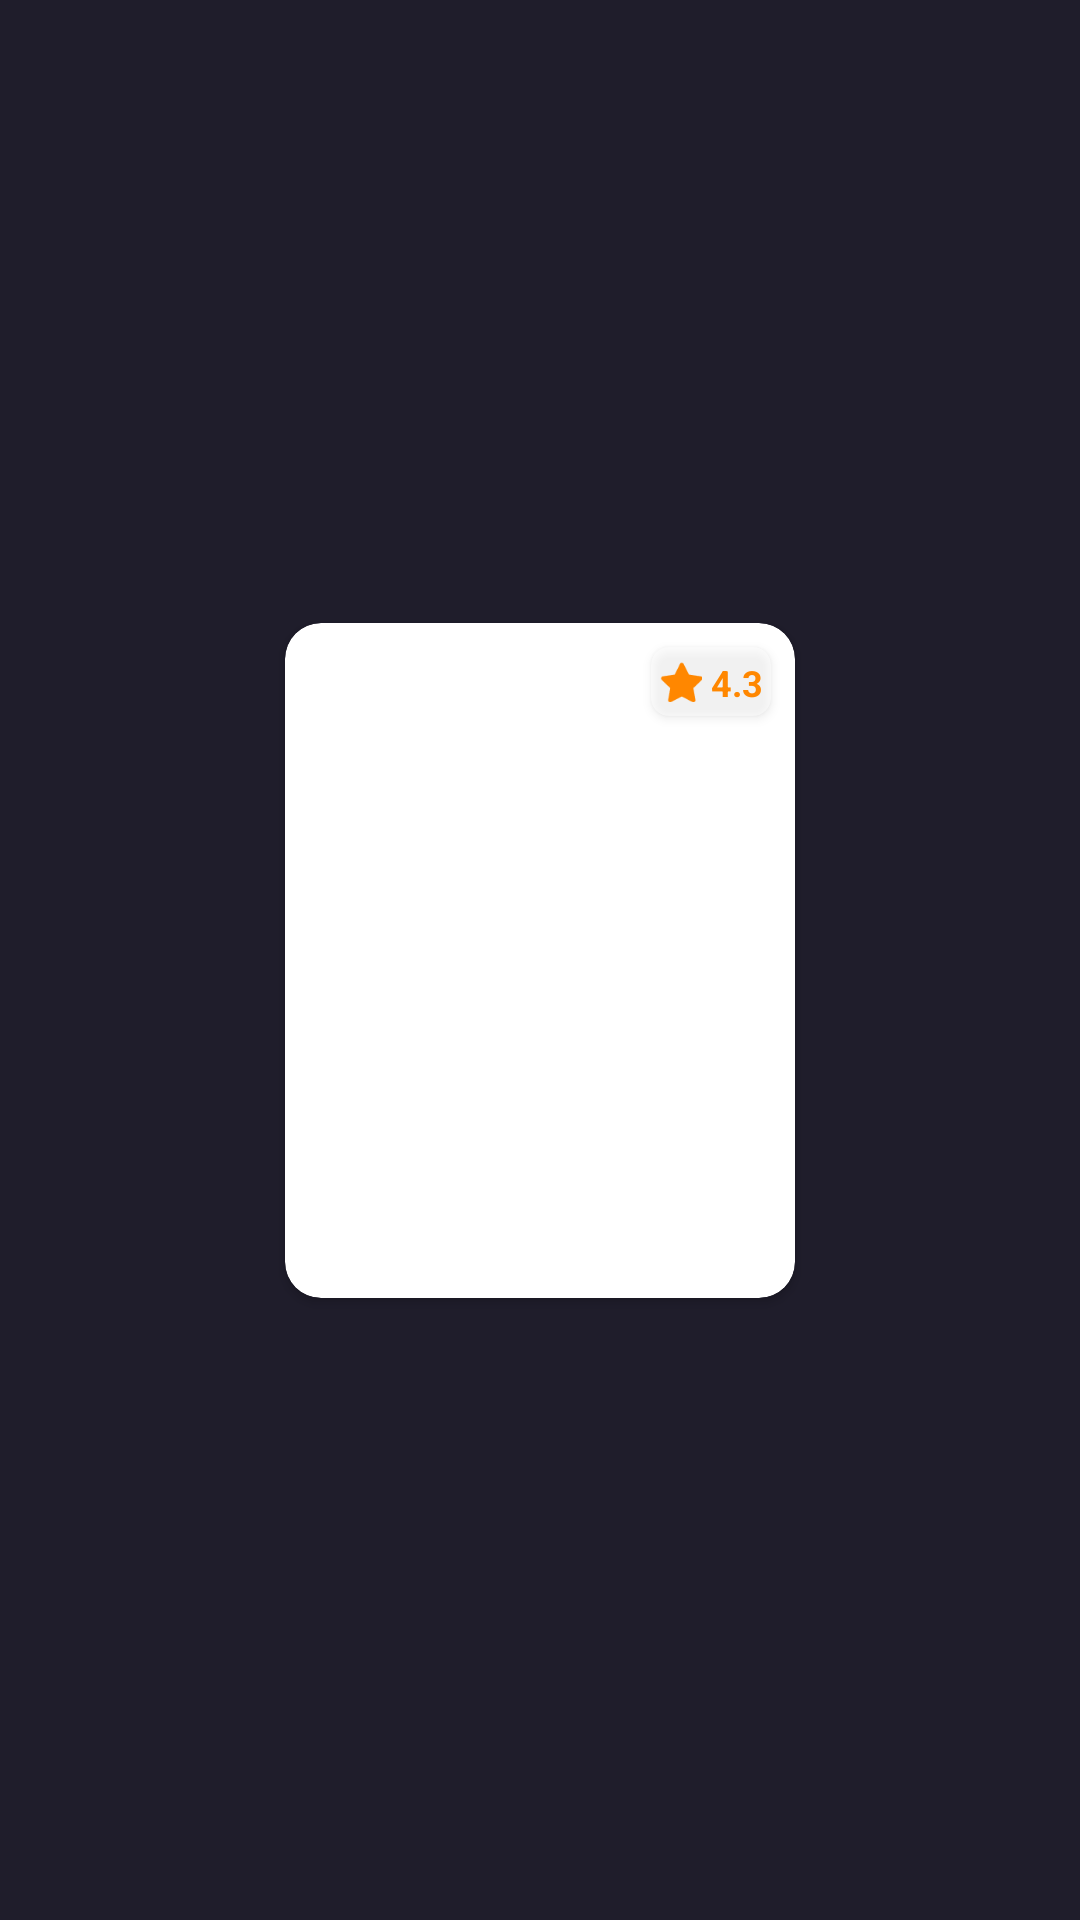

Icon bounding boxes for this 1080w x 1920h phone screenshot, format (x1, y1, x2, y2):
star rate: (661, 662, 702, 702)
